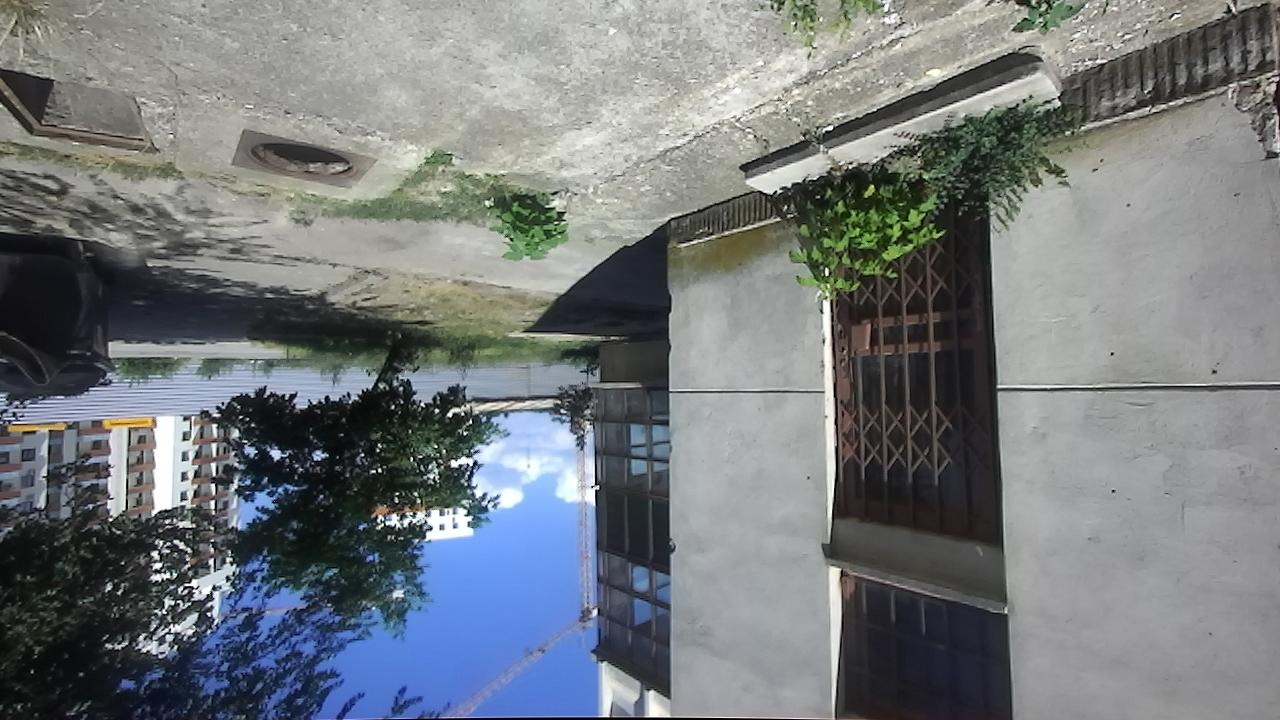drain: (0, 65, 162, 159), (248, 139, 363, 185)
